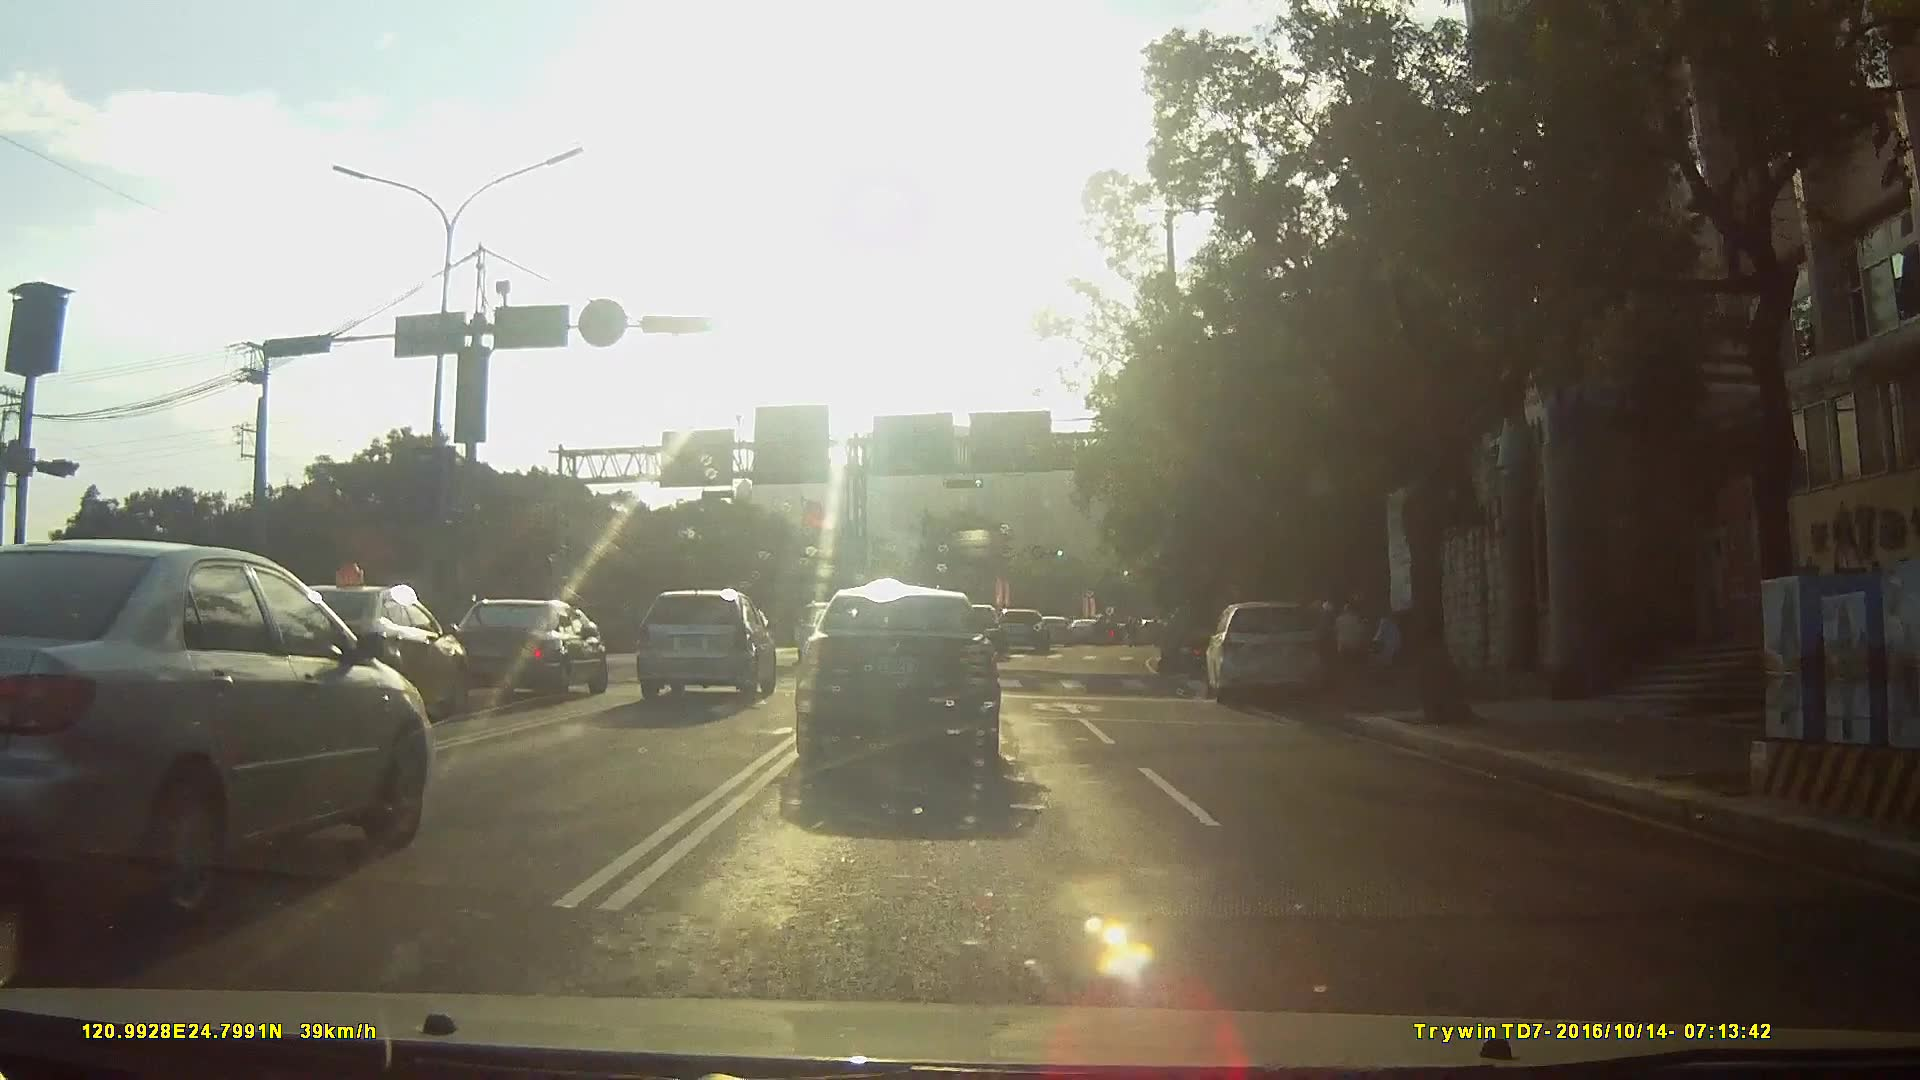pedestrian: (1332, 603, 1374, 665), (1376, 616, 1412, 682)
rider: (1159, 605, 1214, 682)
vehicle: (0, 538, 438, 926), (797, 594, 1025, 792), (224, 581, 449, 727), (428, 598, 610, 706), (634, 587, 778, 704), (1198, 600, 1342, 710), (950, 602, 1012, 660), (998, 610, 1056, 656), (1043, 614, 1082, 646), (1072, 617, 1111, 645)
